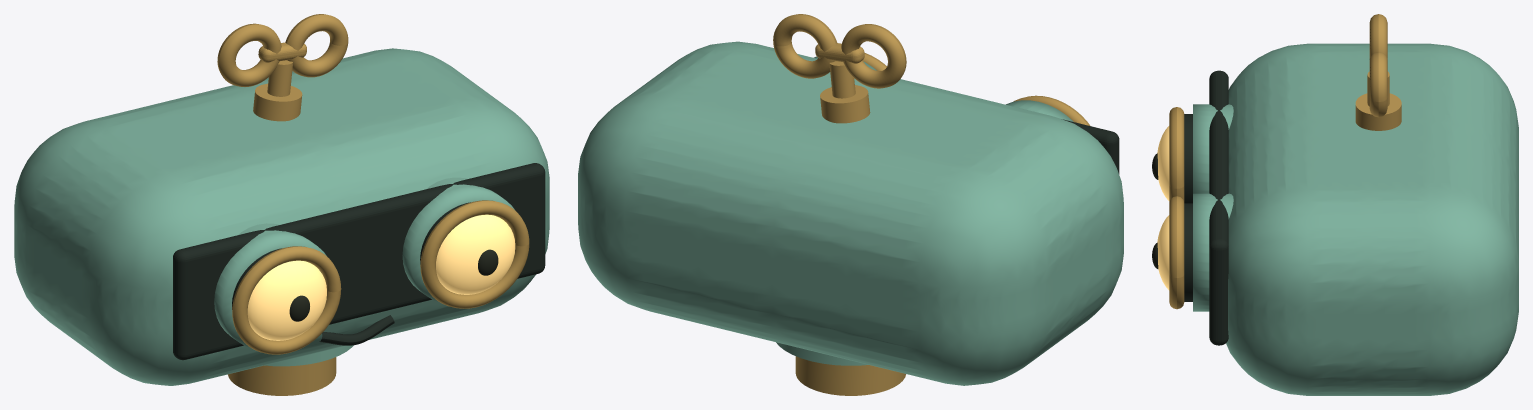
File: brute-head-1.glb
3 views of the same model, side by side, from view 1: azimuth 30°, elevation 25°; view 2: azimuth 150°, elevation 25°; view 3: azimuth 270°, elevation 25° (orthographic). The views are drawn at different scales.
Parts seen in each view (by area): view 1: head_clay, head_hardware (×4), head_paint; view 2: head_clay, head_hardware (×2), head_paint; view 3: head_clay, head_hardware (×3).
Boxes of the visible parts, x1,y1,x2,y2 form: head_clay: [14, 48, 549, 385]; head_hardware (×4): [173, 14, 545, 395]; head_paint: [265, 345, 353, 366]; head_clay: [578, 41, 1123, 385]; head_hardware (×2): [773, 14, 1119, 395]; head_paint: [776, 342, 868, 365]; head_clay: [1193, 43, 1518, 395]; head_hardware (×3): [1157, 14, 1401, 345].
Bounding box in the file's own units: 1.59 × 1.19 × 1.16.
